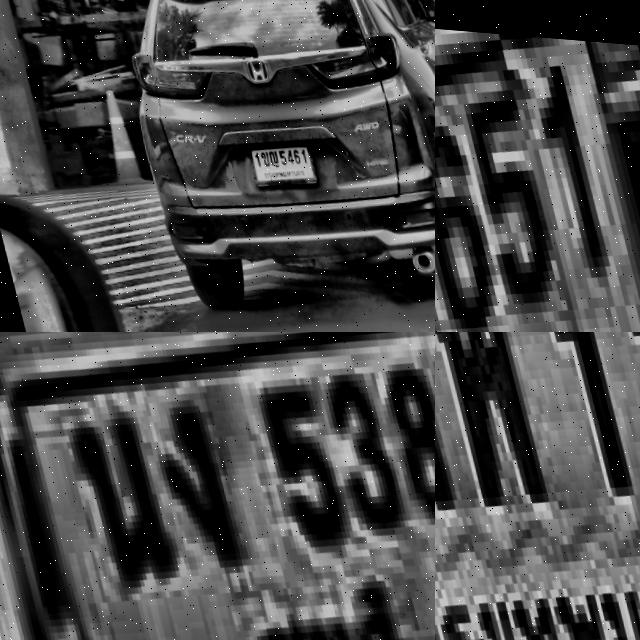license-plate: (0, 332, 435, 640), (435, 0, 640, 332), (435, 332, 640, 640), (236, 127, 313, 186)
